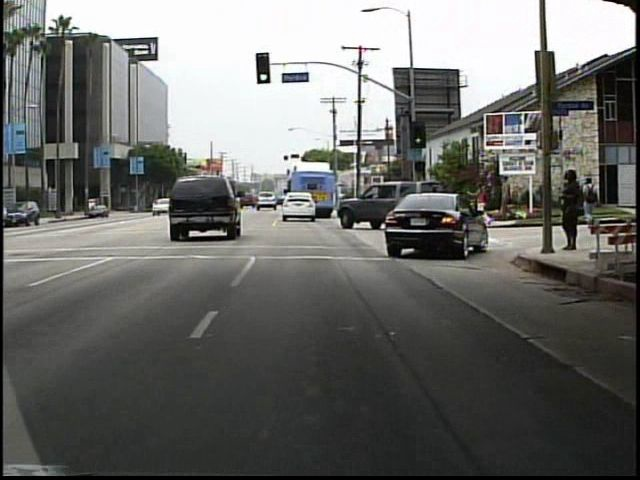person: (553, 166, 580, 256), (581, 173, 601, 230), (471, 178, 494, 217), (497, 175, 515, 222)
